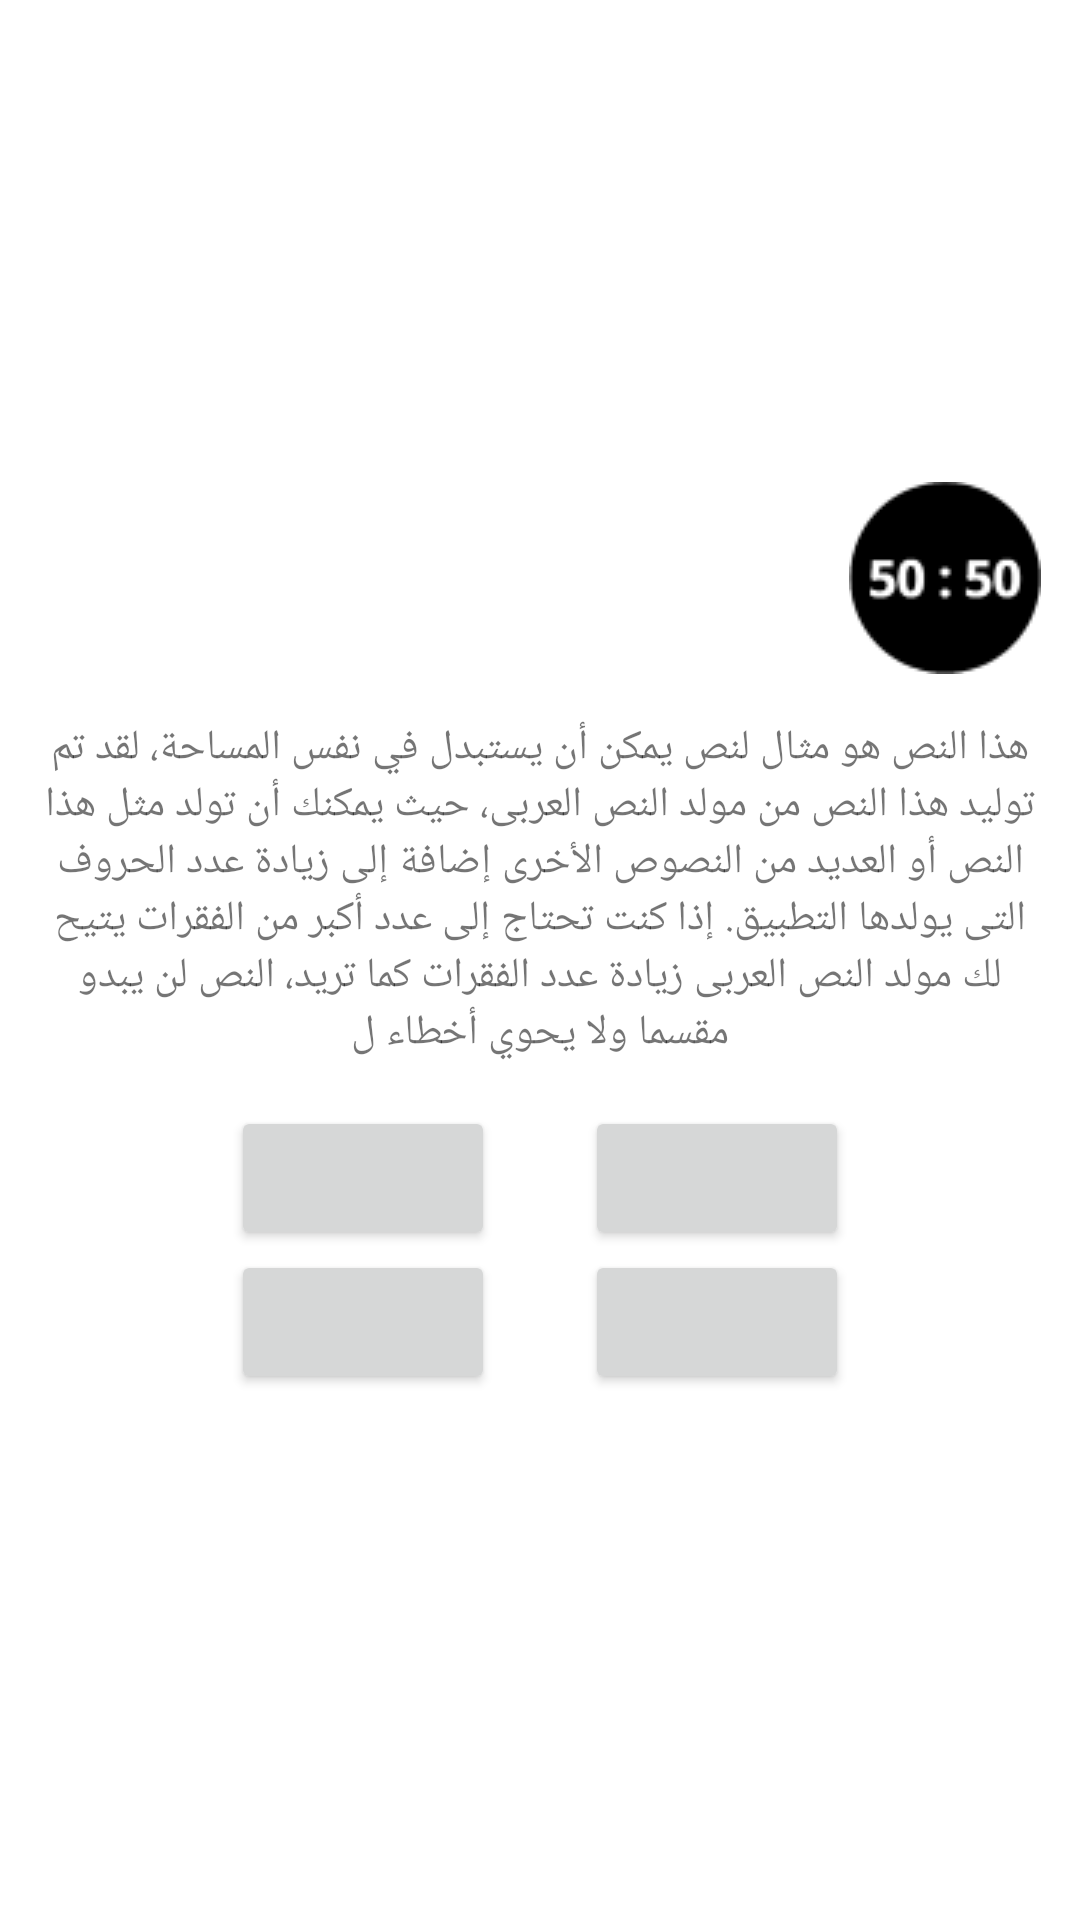

Locate icon controls on the screen. Image size 1080*1920, boxes as (x1, y1, x2, y2).
remove two: (849, 482, 1041, 674)
